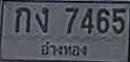4: (80, 7, 92, 33)
5: (112, 7, 126, 33)
6: (96, 8, 109, 33)
7: (65, 7, 78, 33)
A01: (14, 6, 30, 32)
A07: (35, 7, 48, 32)
ATG: (37, 38, 91, 59)
